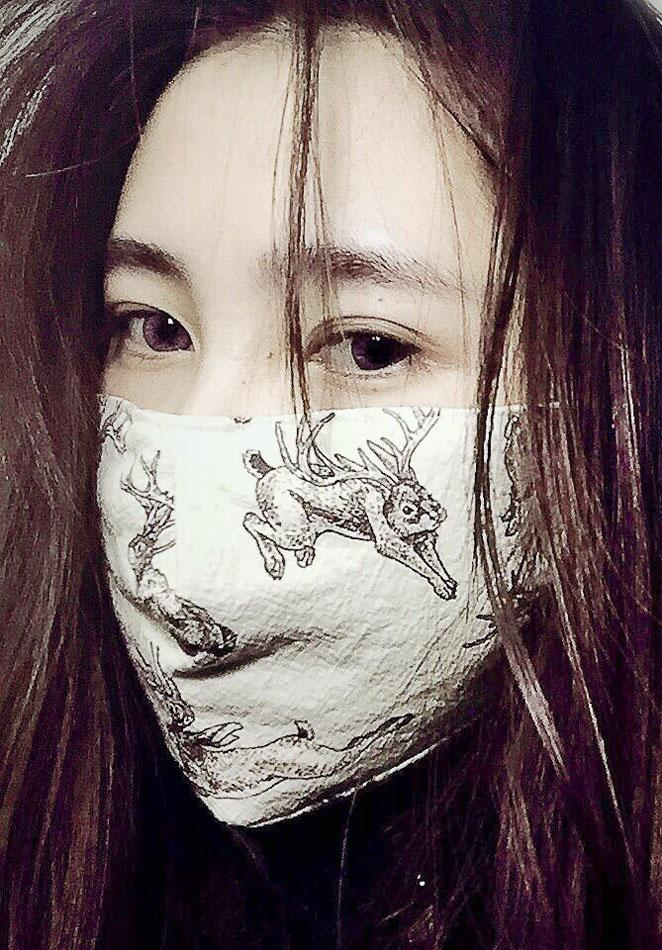OK: (57, 214, 625, 782)
